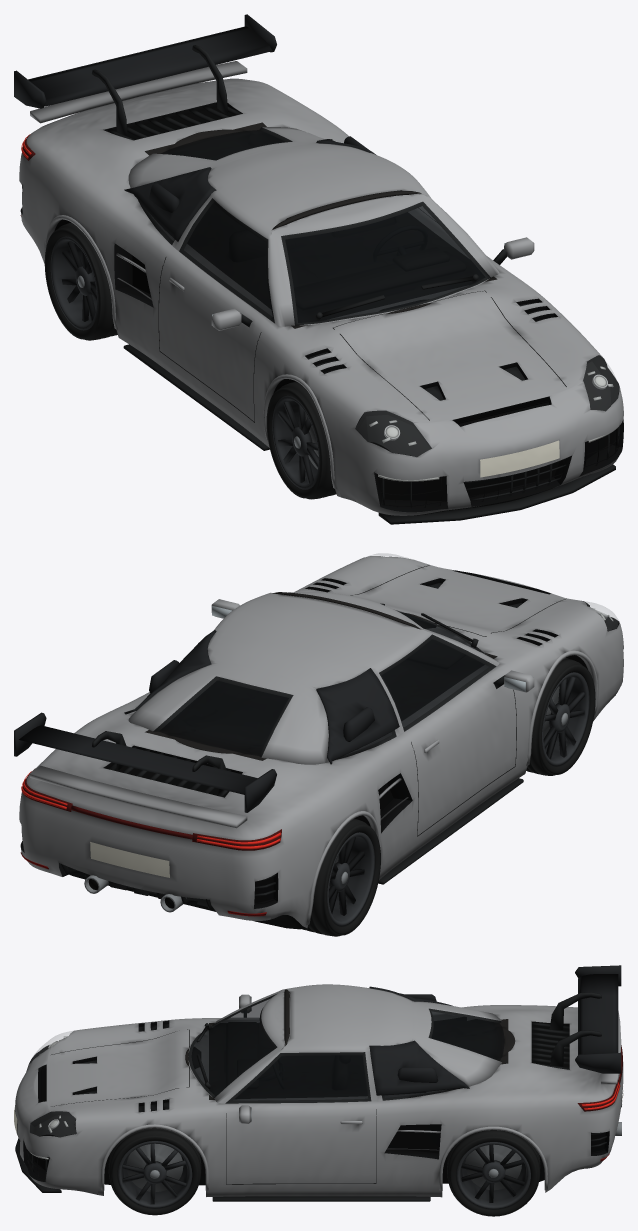
The model's file is porsche-718-cayman-gt4-rs.glb.
3 renders of one model, top to bottom at view 1: azimuth 30°, elevation 25°; view 2: azimuth 150°, elevation 25°; view 3: azimuth 270°, elevation 25°, orthographic. The views are drawn at different scales.
Parts seen in each view (by area): view 1: Coachwork, Body, Wheel_RR, Wheel_FR, Plate; view 2: Coachwork, Body, Wheel_RR, Wheel_FR, Plate, Taillights; view 3: Coachwork, Body, Wheel_RL, Wheel_FL.
Boxes of the visible parts, box(x1,y1,x2,y2) form: Coachwork: box(19, 78, 623, 515); Body: box(14, 14, 619, 524); Wheel_RR: box(44, 222, 117, 340); Wheel_FR: box(266, 381, 336, 499); Plate: box(480, 440, 559, 477); Coachwork: box(19, 556, 623, 929); Body: box(14, 553, 618, 925); Wheel_RR: box(302, 818, 380, 936); Wheel_FR: box(526, 658, 595, 775); Plate: box(90, 842, 169, 877); Taillights: box(21, 771, 280, 849); Coachwork: box(15, 1005, 623, 1197); Body: box(15, 965, 622, 1201); Wheel_RL: box(447, 1130, 540, 1216); Wheel_FL: box(108, 1128, 201, 1215).
Size of the model in its own units: 2.09 by 1.27 by 4.47.
